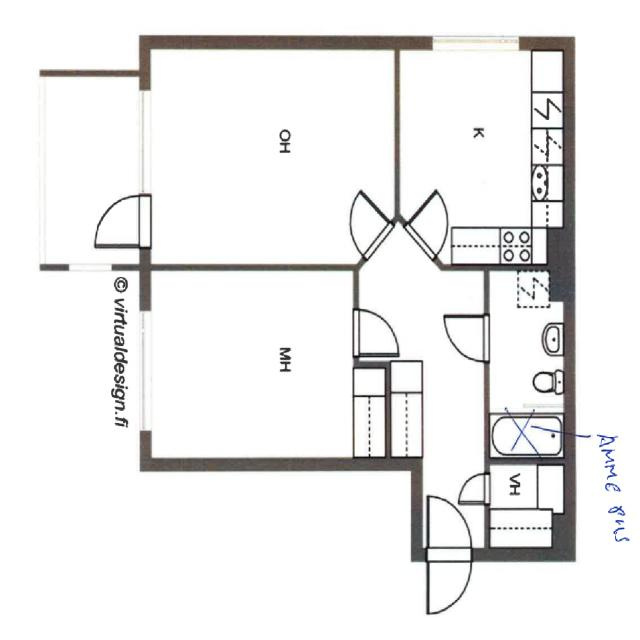door: (404, 190, 465, 260), (335, 192, 394, 260), (427, 547, 471, 611), (96, 196, 150, 248), (427, 498, 471, 560), (446, 316, 490, 362), (353, 310, 397, 354), (460, 475, 490, 503)
